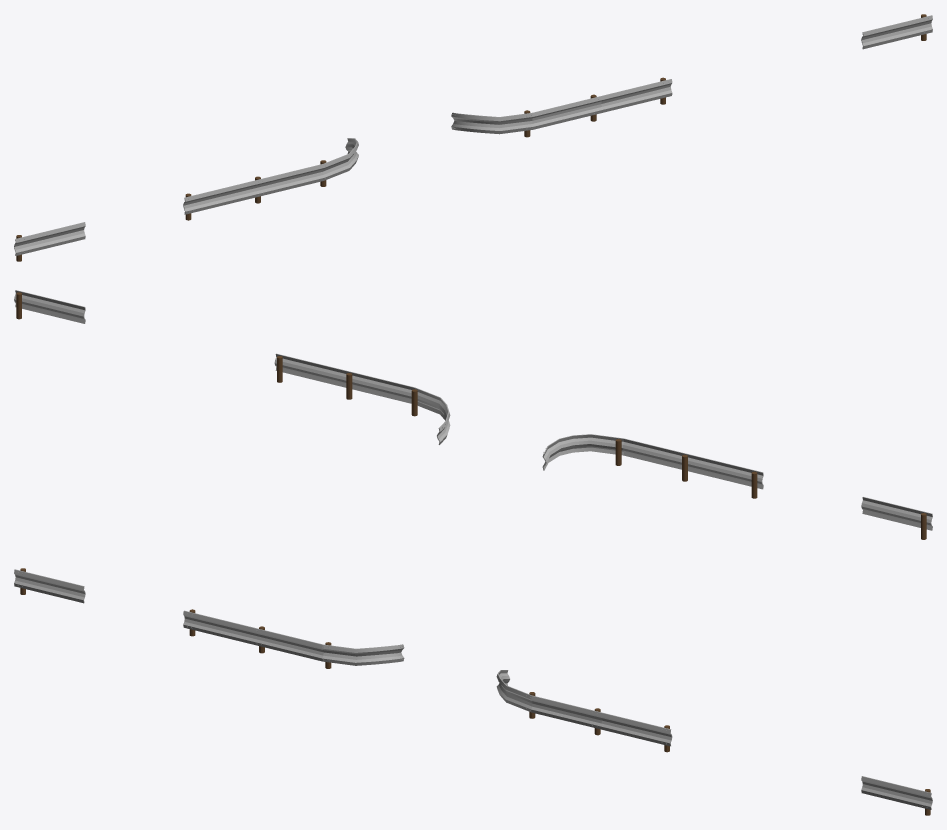
File: Autovern_v002.fbx
The picture shows the model from 3 angles, top to bottom: view 1: azimuth 30°, elevation 25°; view 2: azimuth 150°, elevation 25°; view 3: azimuth 330°, elevation 25°; orthographic projection.
Visible parts, largest first — view 1: Right, Left, LeftPiece, RightPiece; view 2: Left, Right, RightPiece, LeftPiece; view 3: Left, Right, RightPiece, LeftPiece.
Part boxes in pixels (x1=…): Right: x1=451, y1=77, x2=672, y2=137; Left: x1=183, y1=138, x2=358, y2=220; LeftPiece: x1=14, y1=222, x2=85, y2=261; RightPiece: x1=861, y1=14, x2=932, y2=49; Left: x1=542, y1=434, x2=763, y2=498; Right: x1=274, y1=353, x2=450, y2=444; RightPiece: x1=14, y1=290, x2=85, y2=323; LeftPiece: x1=861, y1=497, x2=932, y2=539; Left: x1=183, y1=609, x2=404, y2=668; Right: x1=496, y1=670, x2=672, y2=752; RightPiece: x1=861, y1=776, x2=932, y2=815; LeftPiece: x1=14, y1=568, x2=85, y2=603.
Bounding box in the file's own units: 105 × 2.7 × 5.72.
